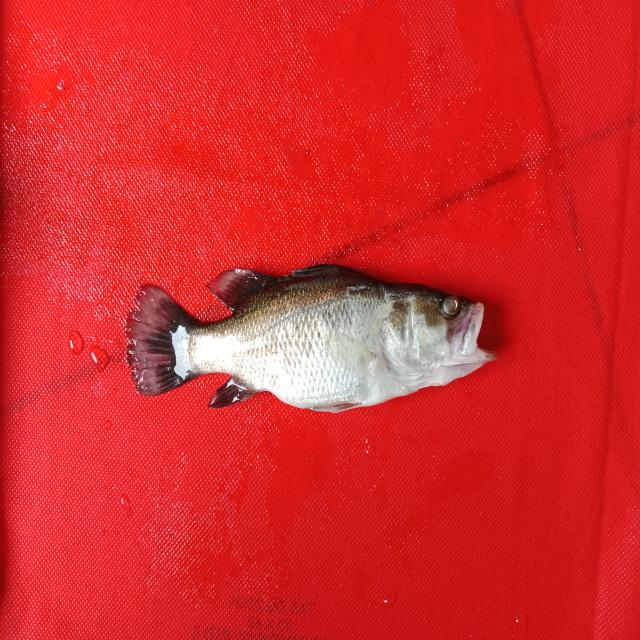ikan: (113, 234, 499, 443)
